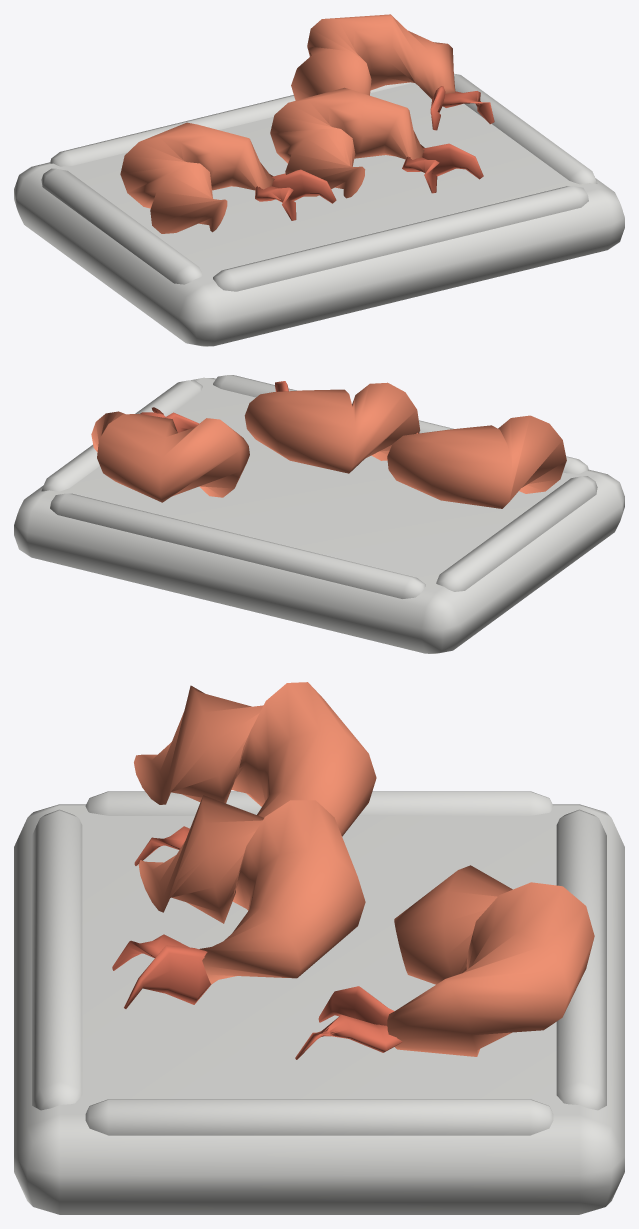
Rendered from shrimp.glb.
3 renders of one model, top to bottom at view 1: azimuth 30°, elevation 25°; view 2: azimuth 150°, elevation 25°; view 3: azimuth 270°, elevation 25°, orthographic. The views are drawn at different scales.
Visible parts, largest first — view 1: shrimp; view 2: shrimp; view 3: shrimp.
Part boxes in pixels (<box>): shrimp: <box>14,14,624,346</box>; shrimp: <box>14,375,624,653</box>; shrimp: <box>14,682,624,1214</box>.
Size of the model in its own units: 0.74 by 0.2409 by 0.55.
